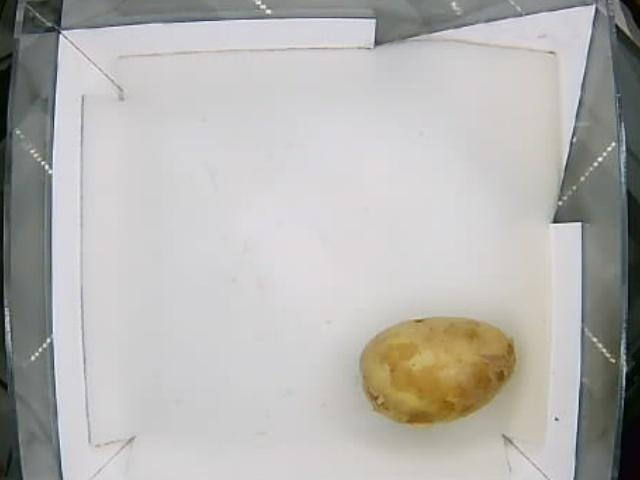Potato: (360, 316, 516, 426)
